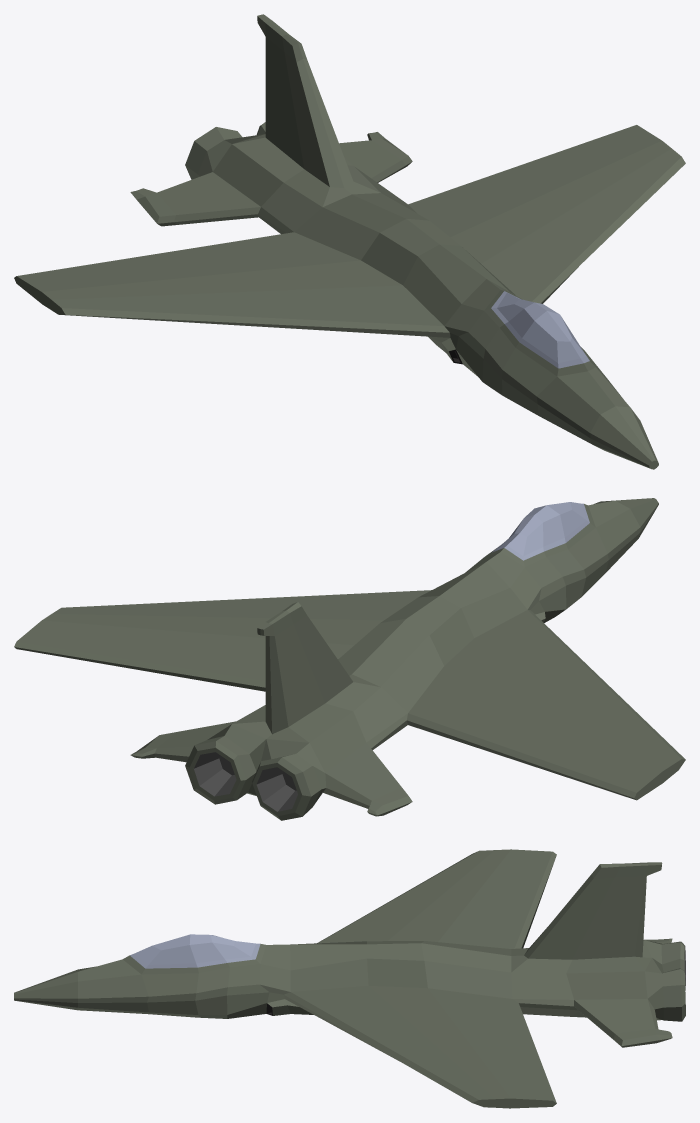
The model's file is Jet_Lowpoly.glb.
3 views of the same model, one above another, from view 1: azimuth 30°, elevation 25°; view 2: azimuth 150°, elevation 25°; view 3: azimuth 270°, elevation 25° (orthographic). The views are drawn at different scales.
Visible parts, largest first — view 1: Jet; view 2: Jet; view 3: Jet.
Part boxes in pixels (x1,y1,x2,y2): Jet: (14,14,685,469); Jet: (14,498,685,820); Jet: (14,849,685,1108).
Size of the model in its own units: 12.12 by 3.37 by 13.82.
